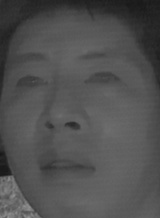eye: (13, 71, 48, 94), (84, 68, 120, 90)
mouth: (35, 149, 95, 184)
